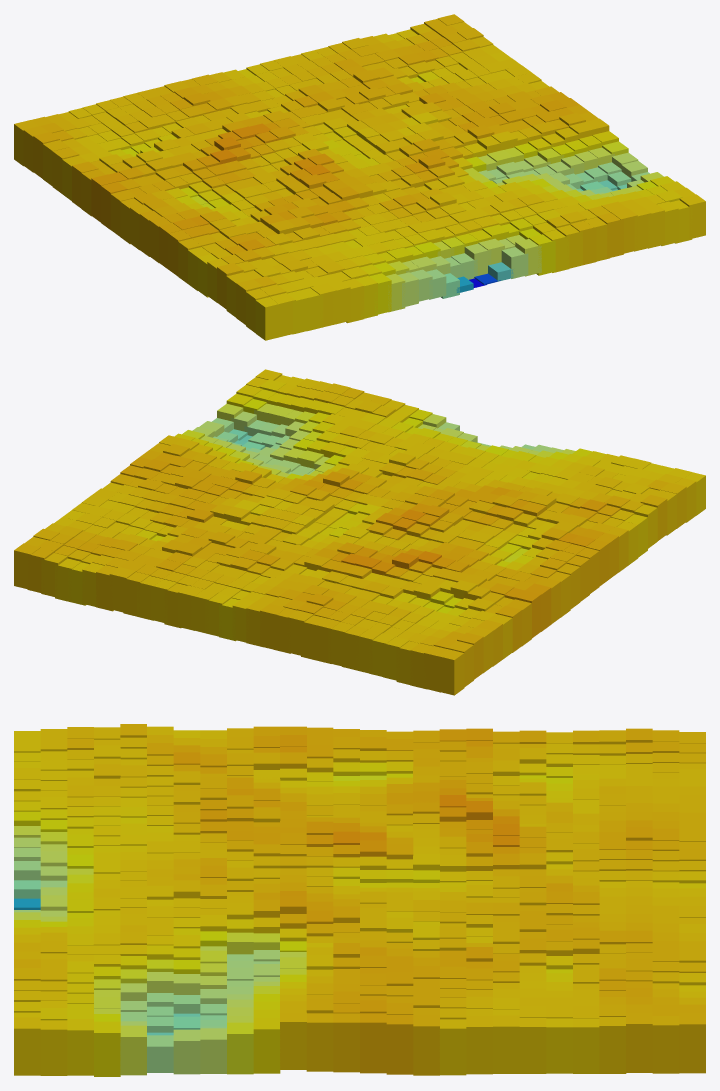
File: population.glb
3 renders of one model, top to bottom at view 1: azimuth 30°, elevation 25°; view 2: azimuth 150°, elevation 25°; view 3: azimuth 270°, elevation 25°, orthographic. The views are drawn at different scales.
Parts seen in each view (by area): view 1: population; view 2: population; view 3: population.
Boxes of the visible parts, x1=… form: population: x1=14, y1=14, x2=705, y2=340; population: x1=14, y1=369, x2=705, y2=695; population: x1=14, y1=724, x2=705, y2=1076.
Size of the model in its own units: 2622 by 261 by 2592.
